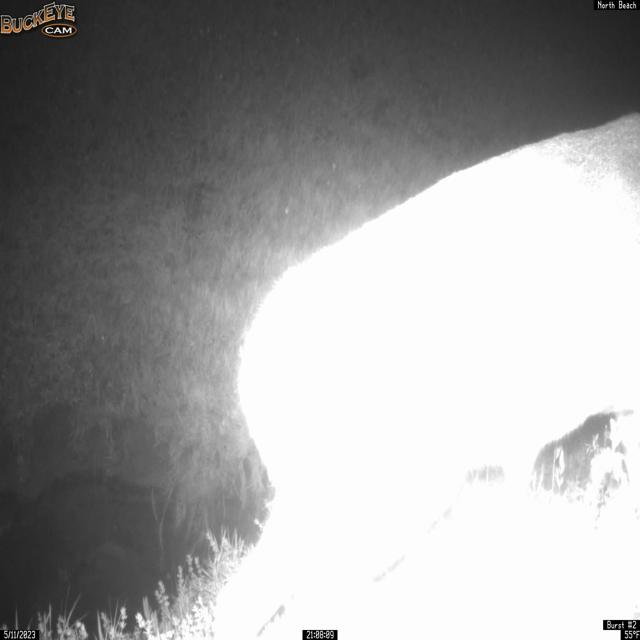deer: (209, 110, 640, 638)
